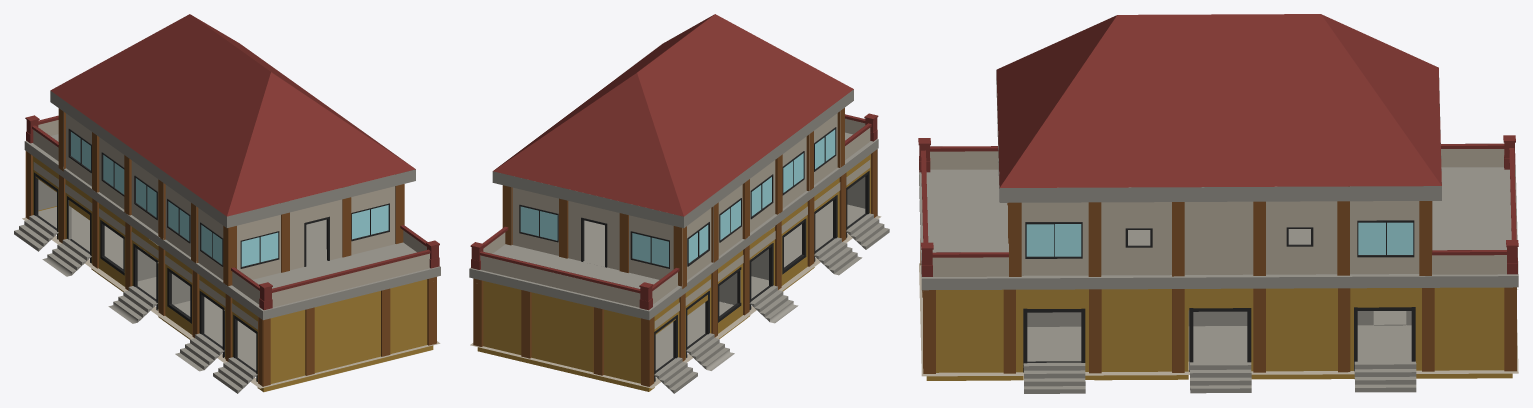
The model's file is house.fbx.
3 renders of one model, left to right at view 1: azimuth 30°, elevation 25°; view 2: azimuth 150°, elevation 25°; view 3: azimuth 270°, elevation 25°, orthographic. The views are drawn at different scales.
Visible parts, largest first — view 1: House; view 2: House; view 3: House.
Part boxes in pixels (bbox=[...]): House: bbox=[14, 14, 440, 393]; House: bbox=[469, 14, 889, 393]; House: bbox=[918, 14, 1518, 393].
Bounding box in the file's own units: 18.03 × 19.2 × 33.44.
